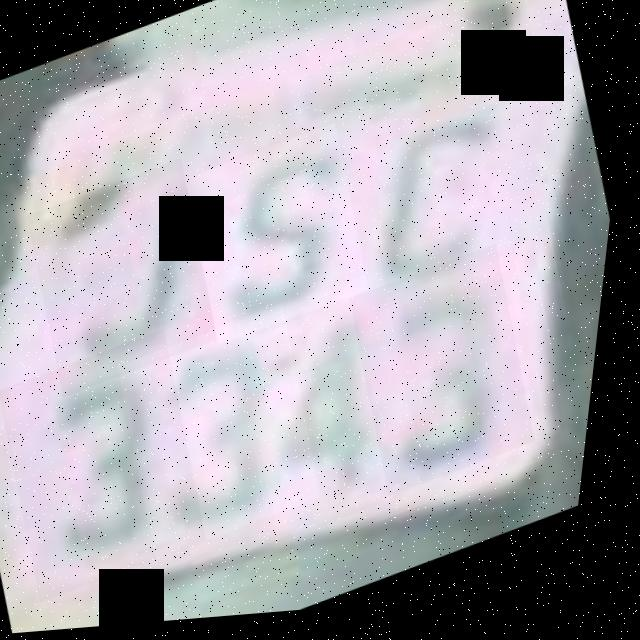3: (0, 327, 238, 608), (109, 305, 350, 566), (339, 248, 564, 507)
4: (226, 273, 452, 535)
J: (16, 157, 242, 402)
S: (174, 125, 391, 354)
